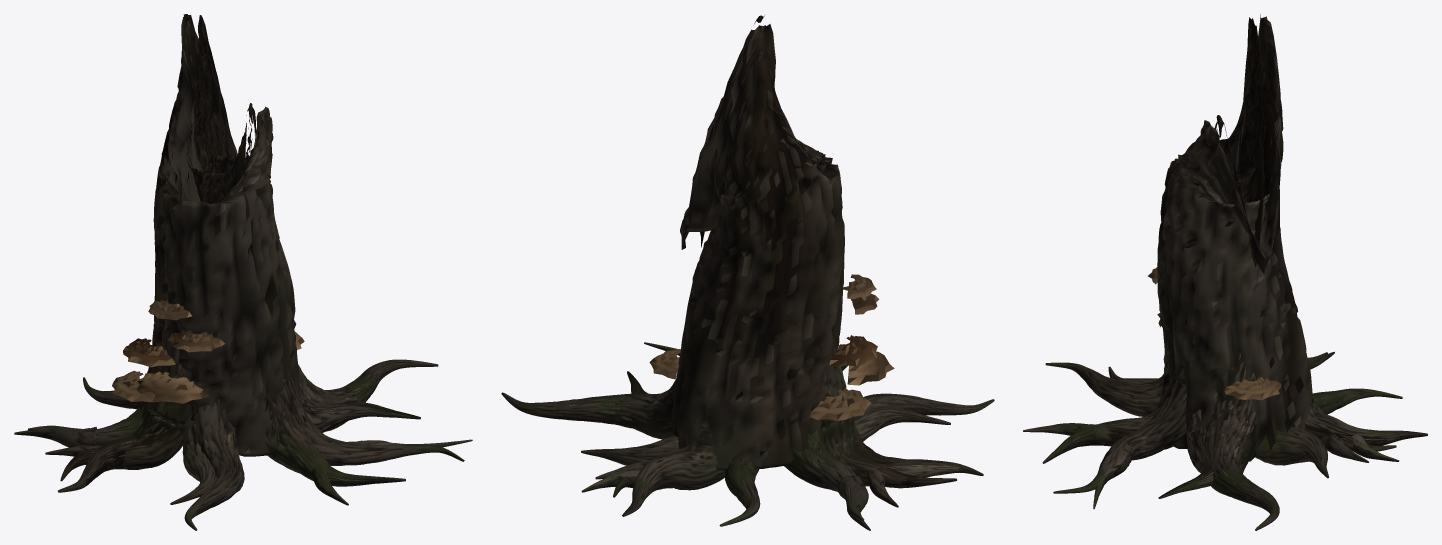
File: twisted-stump-photo.glb
3 renders of one model, left to right at view 1: azimuth 30°, elevation 25°; view 2: azimuth 150°, elevation 25°; view 3: azimuth 270°, elevation 25°, orthographic. The views are drawn at different scales.
Parts seen in each view (by area): view 1: Twisted stump | hollow split trunk, roots, shelf mushrooms, Twisted stump | hollow interior; view 2: Twisted stump | hollow split trunk, roots, shelf mushrooms; view 3: Twisted stump | hollow split trunk, roots, shelf mushrooms, Twisted stump | hollow interior.
Part boxes in pixels (x1=…): Twisted stump | hollow split trunk, roots, shelf mushrooms: x1=14, y1=14, x2=472, y2=530; Twisted stump | hollow interior: x1=186, y1=15, x2=255, y2=204; Twisted stump | hollow split trunk, roots, shelf mushrooms: x1=501, y1=24, x2=994, y2=530; Twisted stump | hollow split trunk, roots, shelf mushrooms: x1=1023, y1=14, x2=1427, y2=530; Twisted stump | hollow interior: x1=1214, y1=17, x2=1263, y2=267.
Size of the model in its own units: 4.48 by 4.46 by 3.9.
2 materials, 2 textured.
